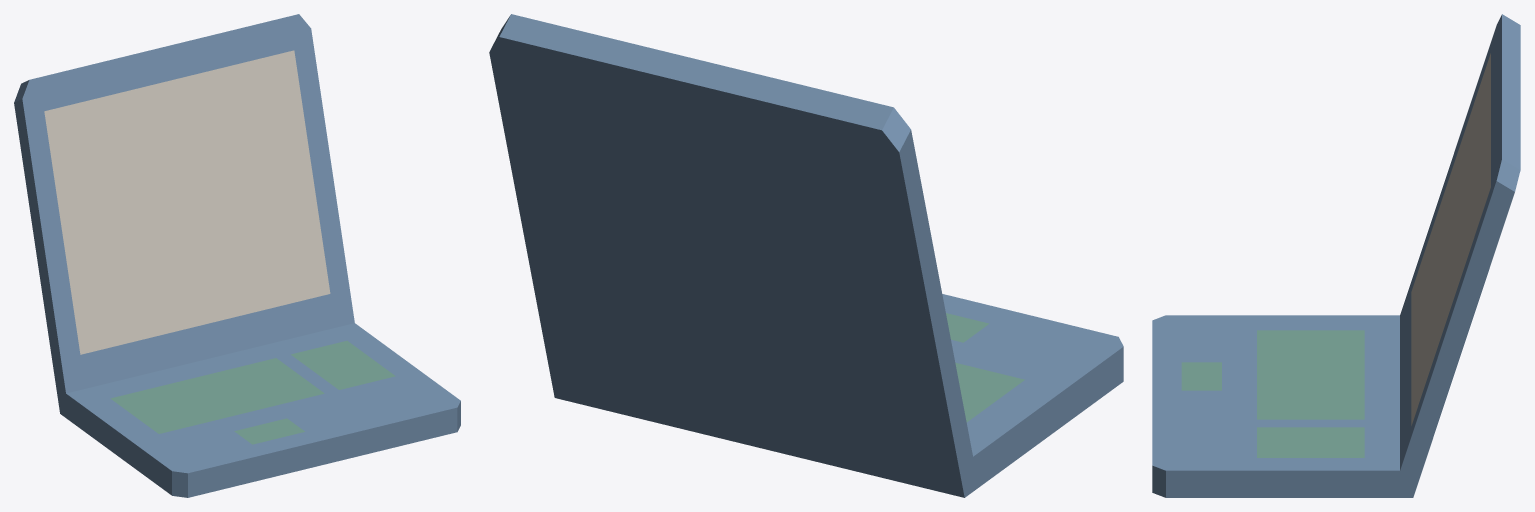
Rendered from laptop.glb.
3 renders of one model, left to right at view 1: azimuth 30°, elevation 25°; view 2: azimuth 150°, elevation 25°; view 3: azimuth 270°, elevation 25°, orthographic. The views are drawn at different scales.
Size of the model in its own units: 1 by 1 by 1.
